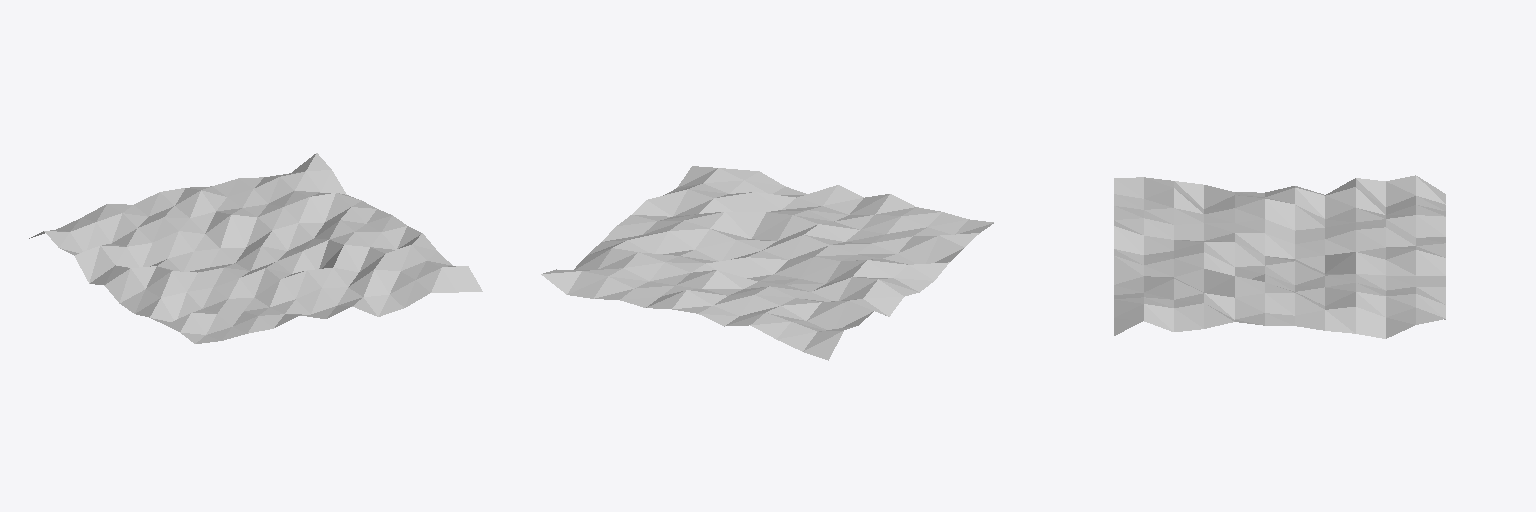
Rendered from terrain2.obj.
The picture shows the model from 3 angles: view 1: azimuth 30°, elevation 25°; view 2: azimuth 150°, elevation 25°; view 3: azimuth 270°, elevation 25°; orthographic projection.
Parts seen in each view (by area): view 1: Plane_Plane.001; view 2: Plane_Plane.001; view 3: Plane_Plane.001.
Part boxes in pixels (left/top/right/bottom): Plane_Plane.001: left=29, top=153, right=482, bottom=343; Plane_Plane.001: left=541, top=166, right=993, bottom=360; Plane_Plane.001: left=1114, top=175, right=1445, bottom=338.
Bounding box in the file's own units: 400 × 34.12 × 400.